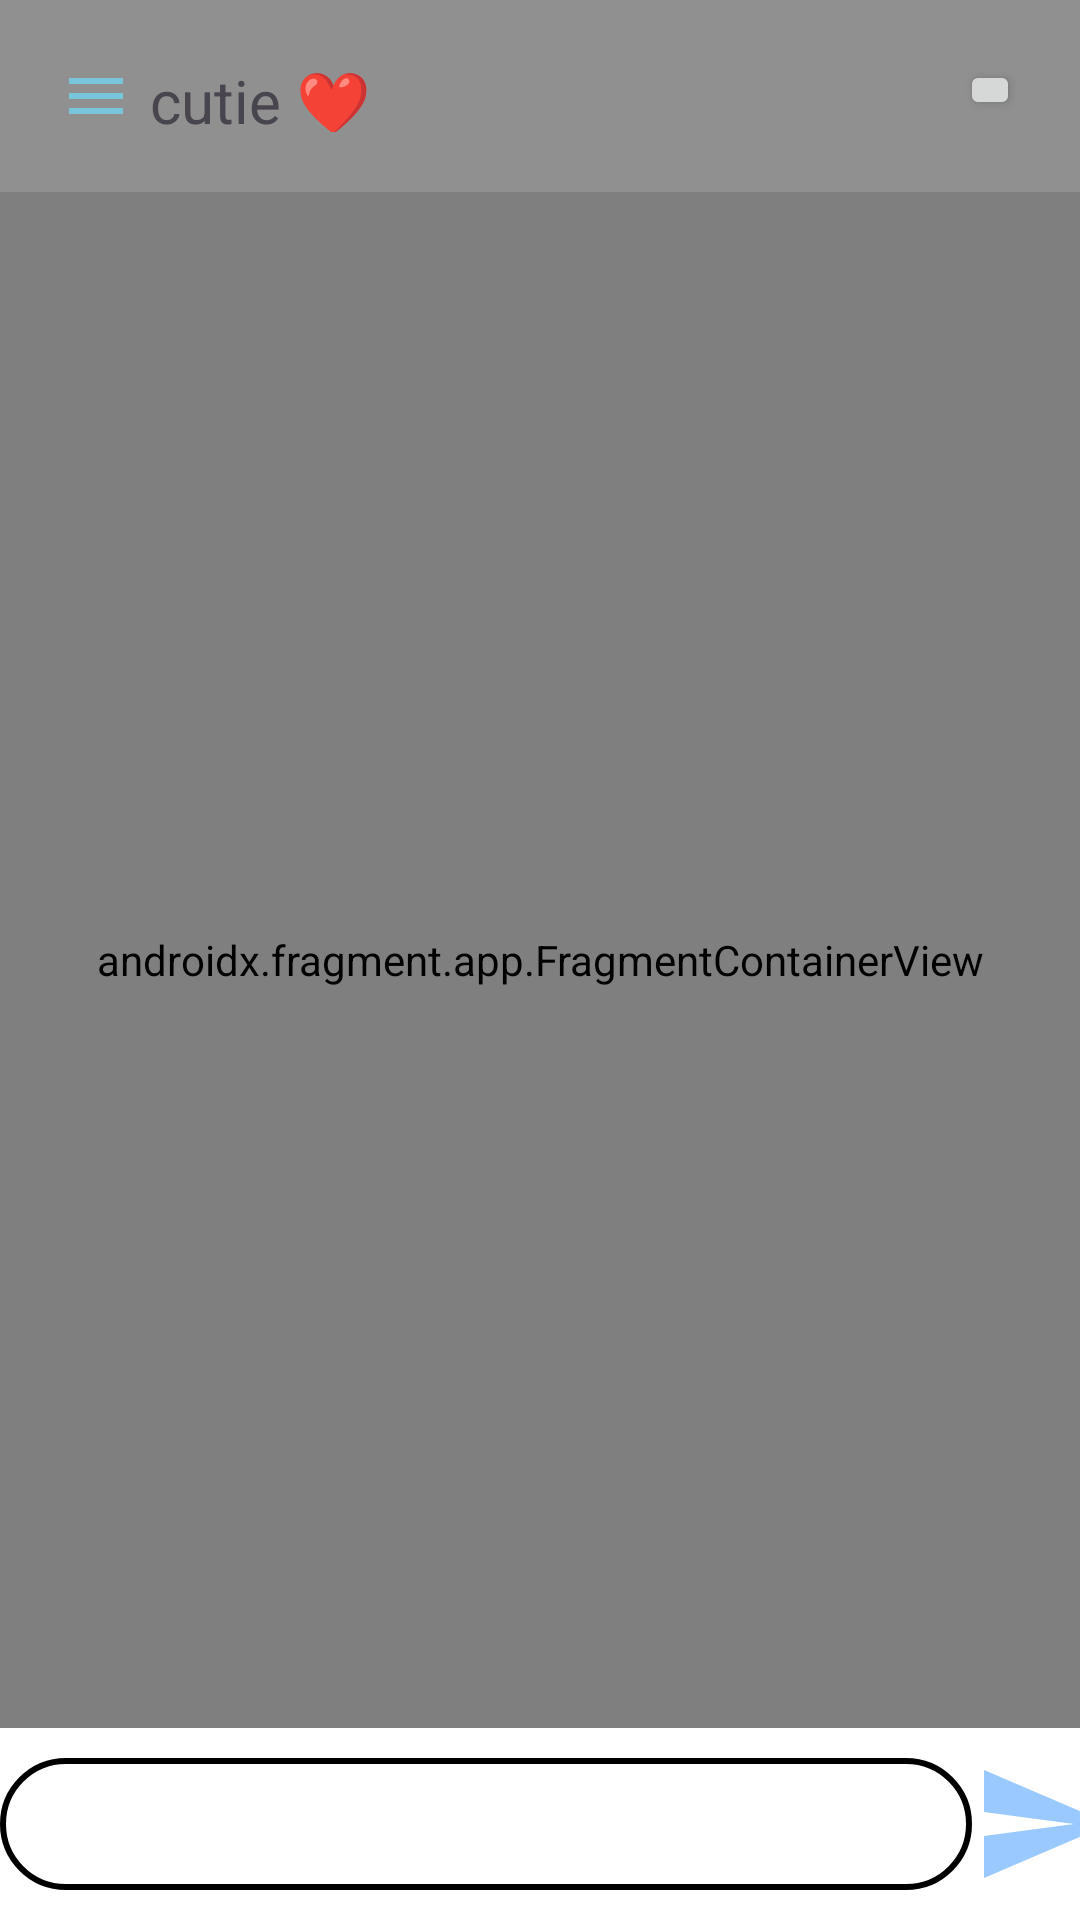

Where icons sit on this 1080×1920 app screen, as (x1, y1, x2, y2):
menu: (69, 78, 123, 114)
